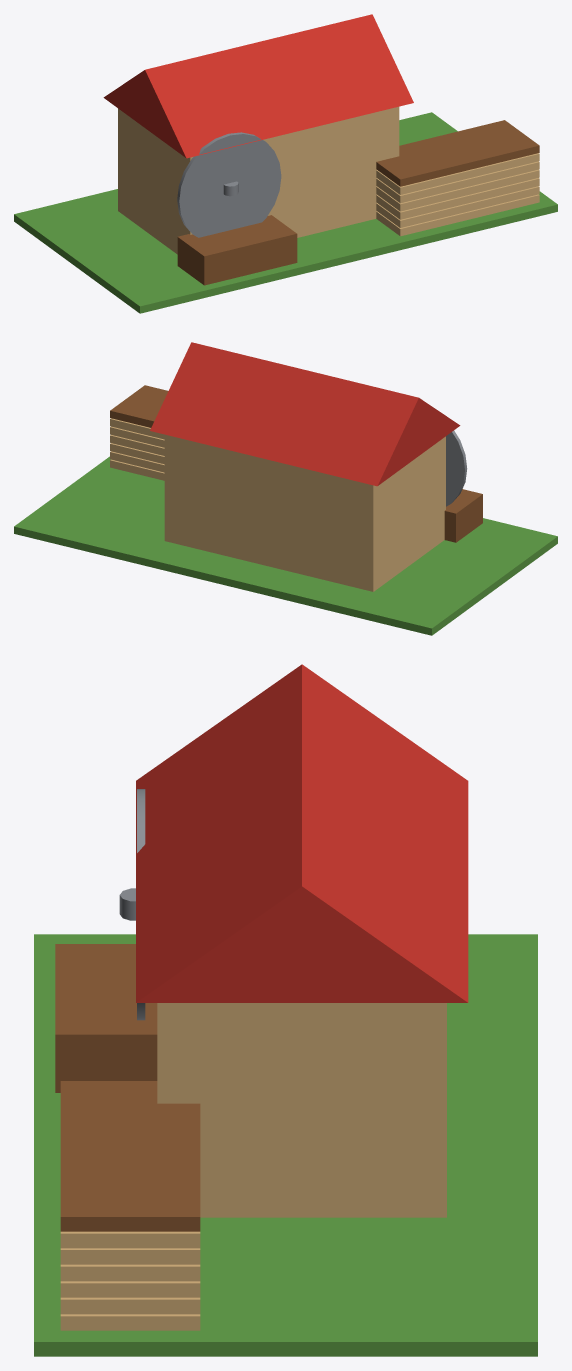
The model's file is sawmill.glb.
3 renders of one model, top to bottom at view 1: azimuth 30°, elevation 25°; view 2: azimuth 150°, elevation 25°; view 3: azimuth 270°, elevation 25°, orthographic. The views are drawn at different scales.
Visible parts, largest first — view 1: wood, red, grass, darkWood, steel; view 2: wood, grass, red, darkWood, steel; view 3: red, grass, wood, darkWood, steel.
Part boxes in pixels (x1,y1,x2,y2): wood: [118, 106, 539, 254]; red: [103, 14, 413, 158]; grass: [14, 112, 557, 313]; darkWood: [177, 120, 539, 285]; steel: [177, 132, 281, 237]; wood: [110, 418, 445, 591]; grass: [14, 456, 557, 635]; red: [150, 342, 460, 486]; darkWood: [110, 385, 482, 542]; steel: [446, 430, 467, 506]; red: [136, 664, 468, 1002]; grass: [34, 934, 537, 1356]; wood: [60, 1003, 446, 1330]; darkWood: [55, 944, 200, 1231]; steel: [119, 789, 145, 1020].
Size of the model in its own units: 180 by 73 by 94.
